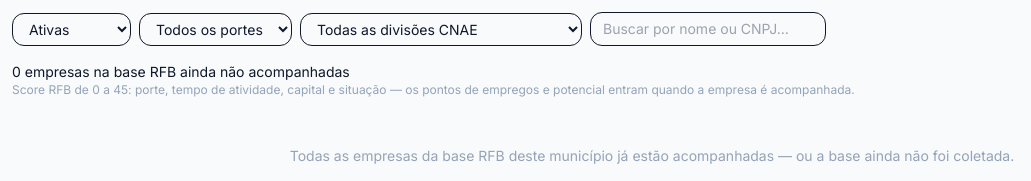
Test: DescobrirRfb › estado vazio distingue 'sem filtro' de 'filtro sem resultado'
The width and height of the screenshot is (1031, 181).
Expected: the text "já estão acompanhadas — ou a base ainda não foi coletada" is shown, 290,147 -> 1014,164
Select "Média" in the dropdown named "Porte" at (216, 29), box 139,12 -> 292,46
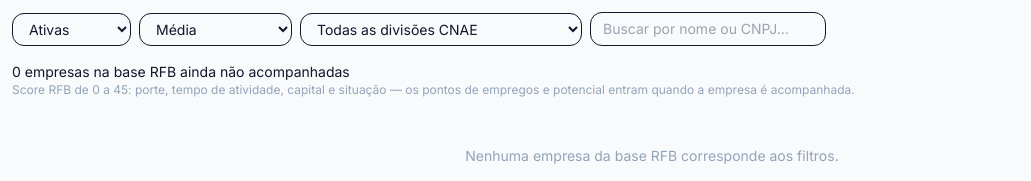
Now the text "Nenhuma empresa da base RFB corresponde aos filtros." is shown, box 465,147 -> 839,164
